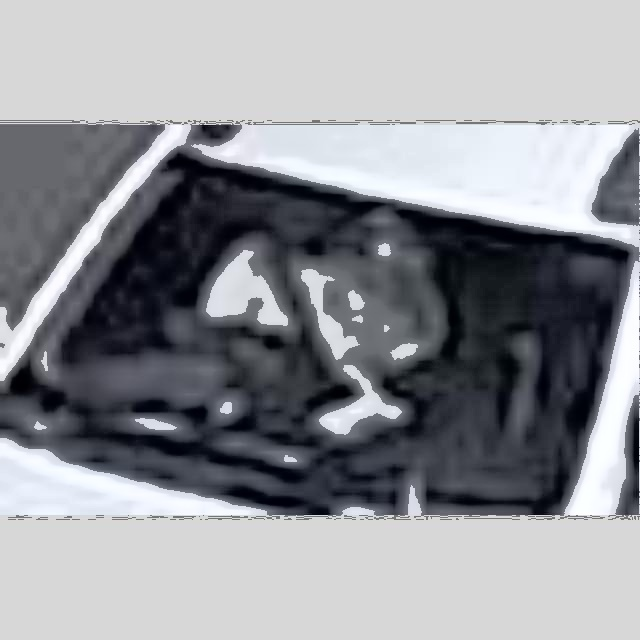pakai: (175, 208, 449, 449)
